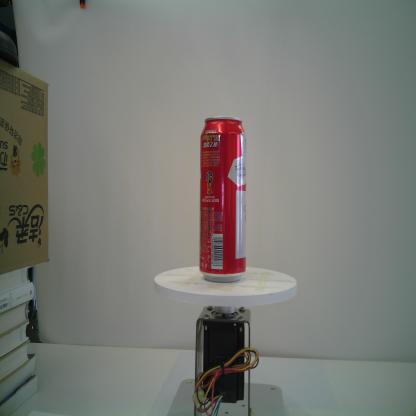Alcohol: (198, 115, 247, 283)
